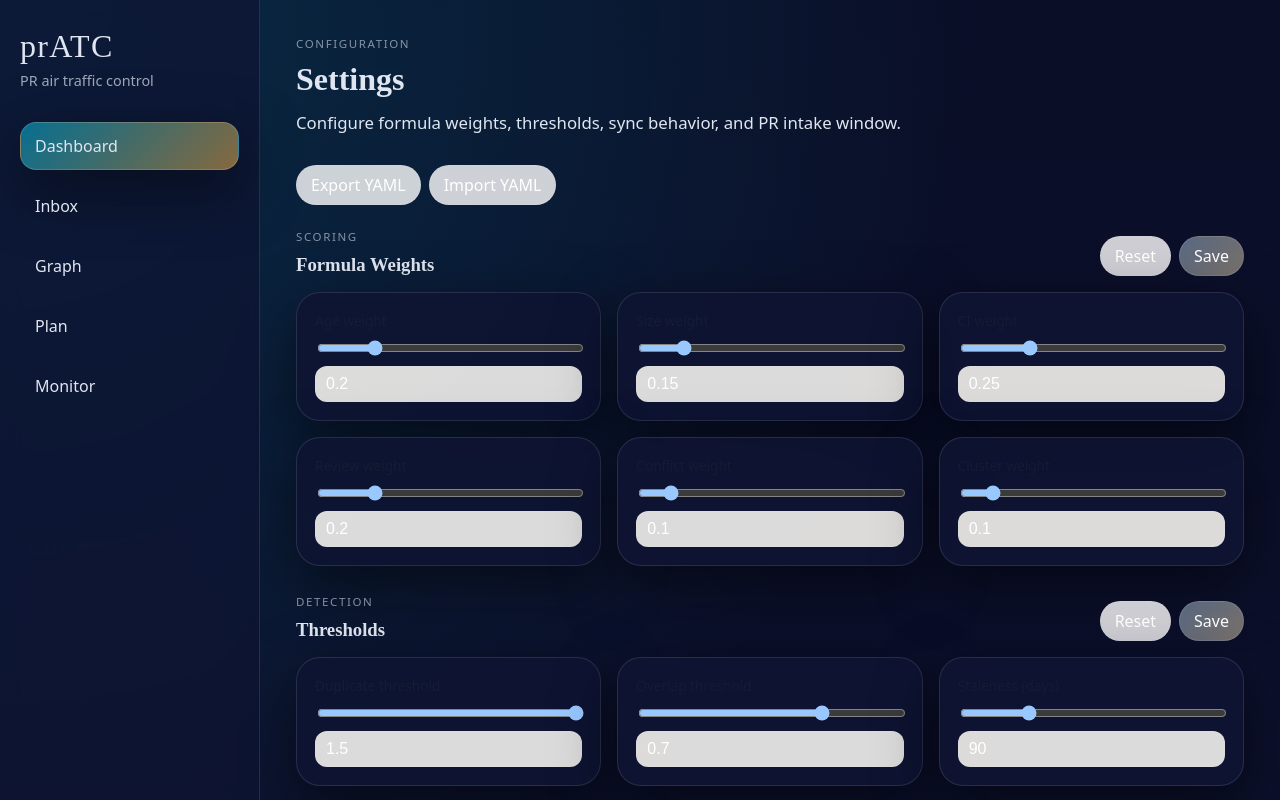
SettingsPage › shows inline error when validateOnly fails
Step 1. Click the button "Save" in the row of "Detection" → (1212, 621), box [1179,601,1244,641]
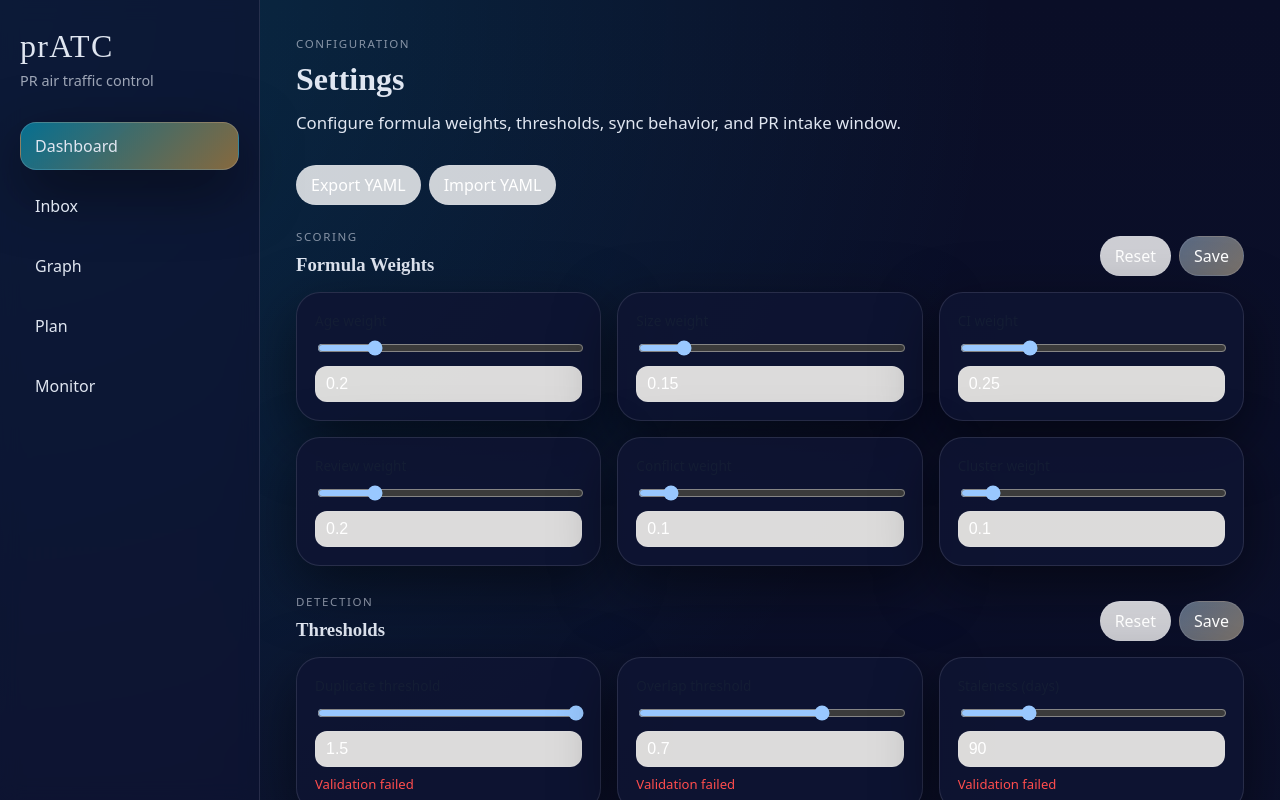
Expected: the text "Validation failed" below "Duplicate threshold" is shown, [315,775,414,793]
